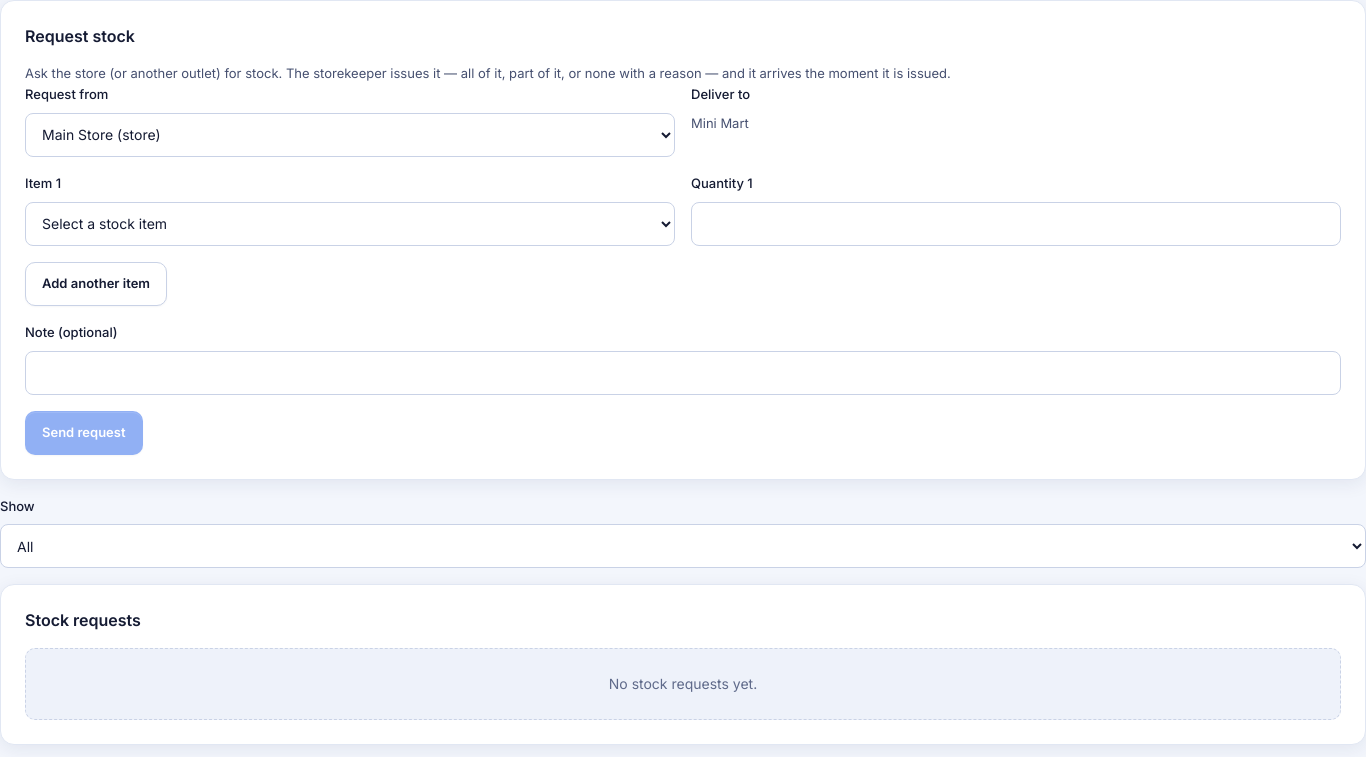
<StockRequestsTab> › raising a request › the mart cashier (restricted, delivering to a supermarket) › offers ONLY the mart's own products, each with the store's quantity, never the bar's or restaurant's items (even though the store holds them)
expect the dropdown labelled "Request from" shows "Main Store (store)": met, box [25,113,675,157]
Select "Mart Coke (bottle)" in the dropdown labelled "Item 1". click: (350, 224)
box: [25,202,675,246]
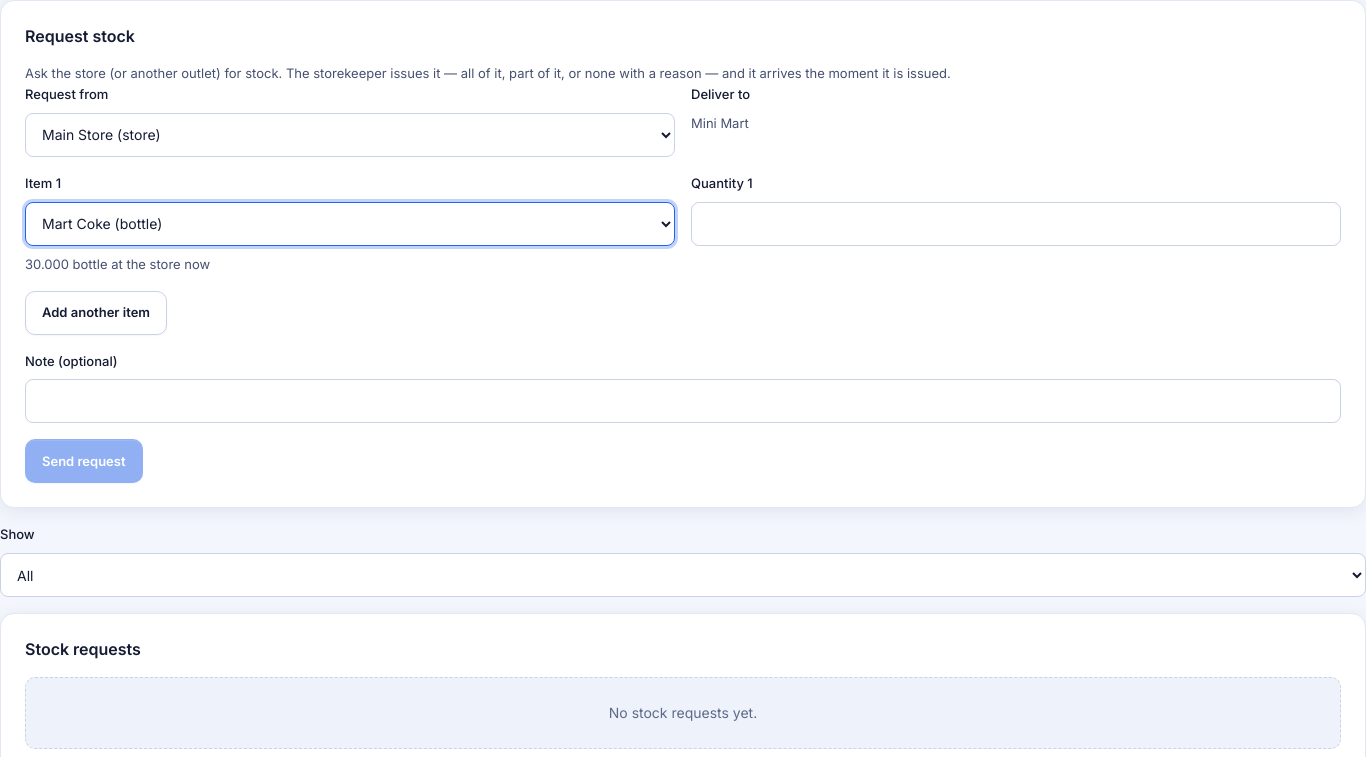
expect the text "30.000 bottle at the store now" is shown: met, box [25,256,210,272]
Click the button "Add another item". click: (96, 313)
box: [25,291,167,335]
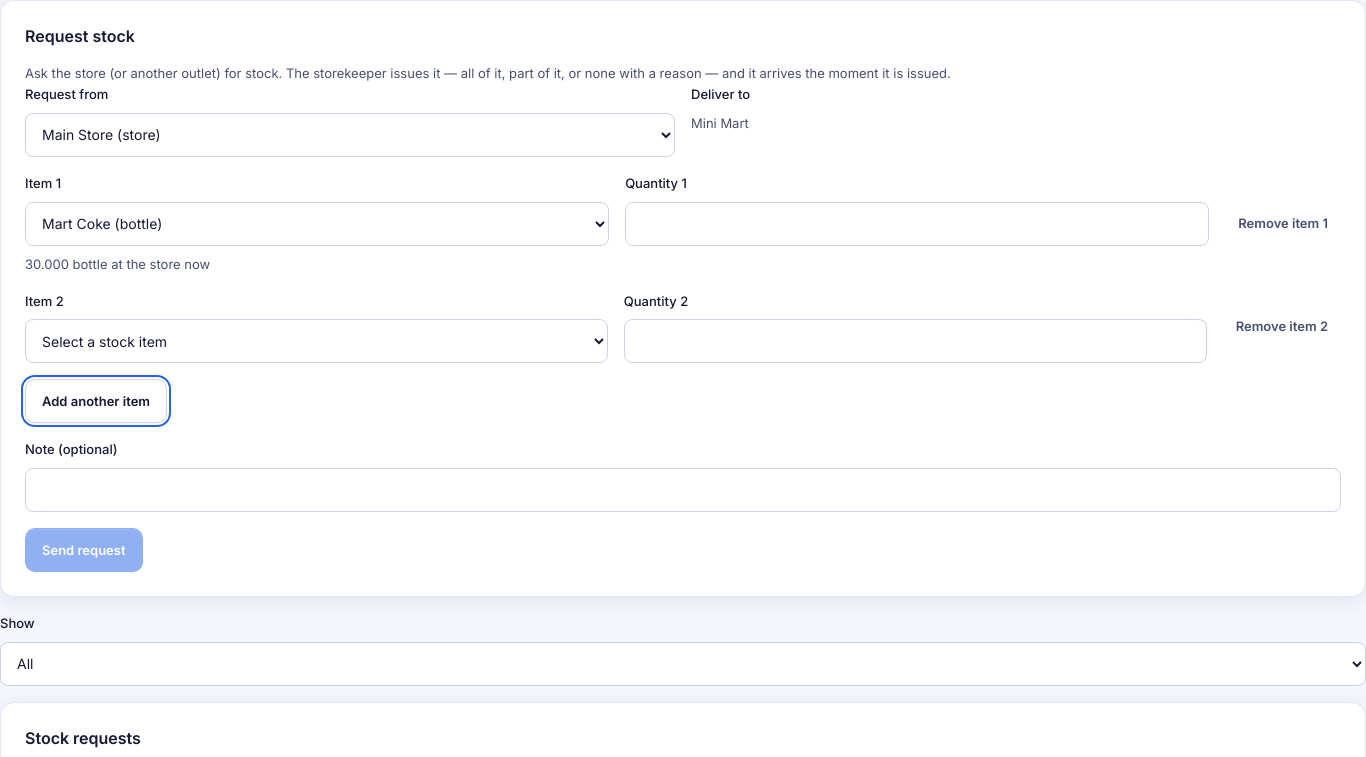
Select "Mart Rice (bag)" in the dropdown labelled "Item 2". click: (316, 341)
box: [25,319,608,363]
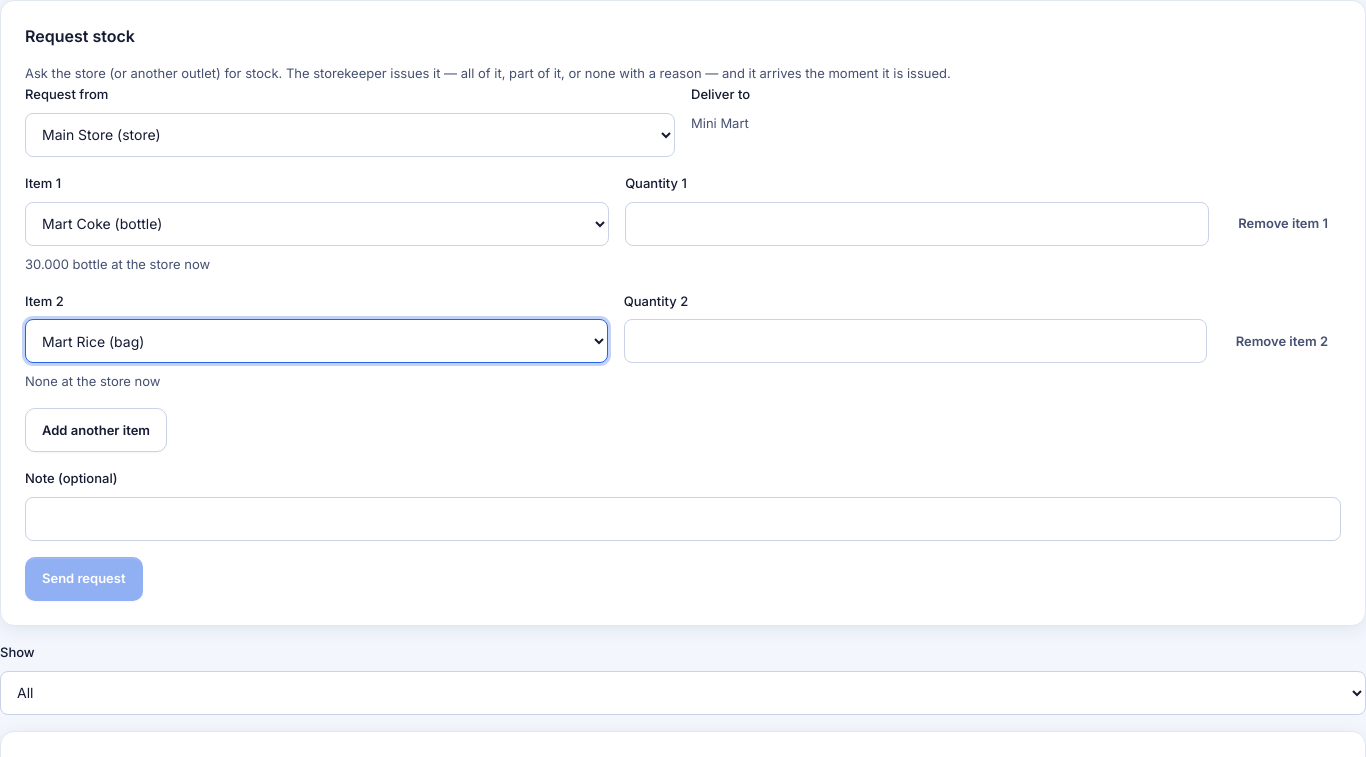
expect the text "None at the store now" is shown: met, box [25,373,160,389]
